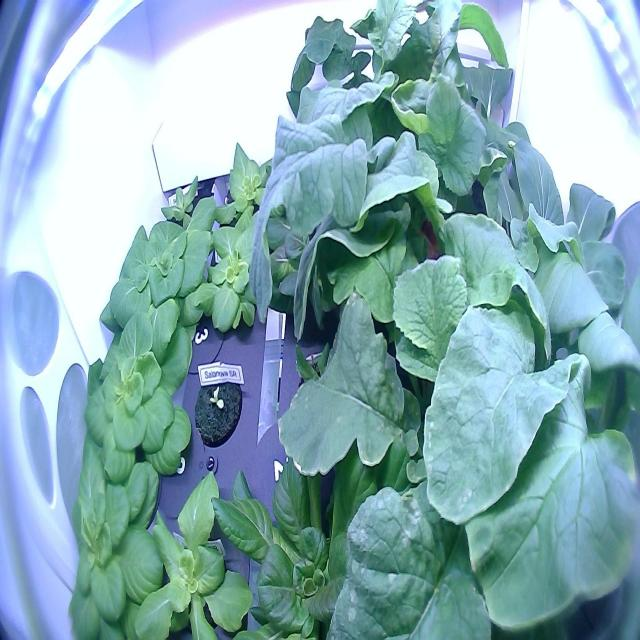germination: (189, 354, 247, 458)
young: (205, 380, 452, 640), (128, 457, 260, 639), (78, 298, 197, 488), (60, 442, 170, 640), (96, 190, 217, 367), (189, 204, 287, 336), (209, 132, 293, 236), (159, 166, 204, 241)
